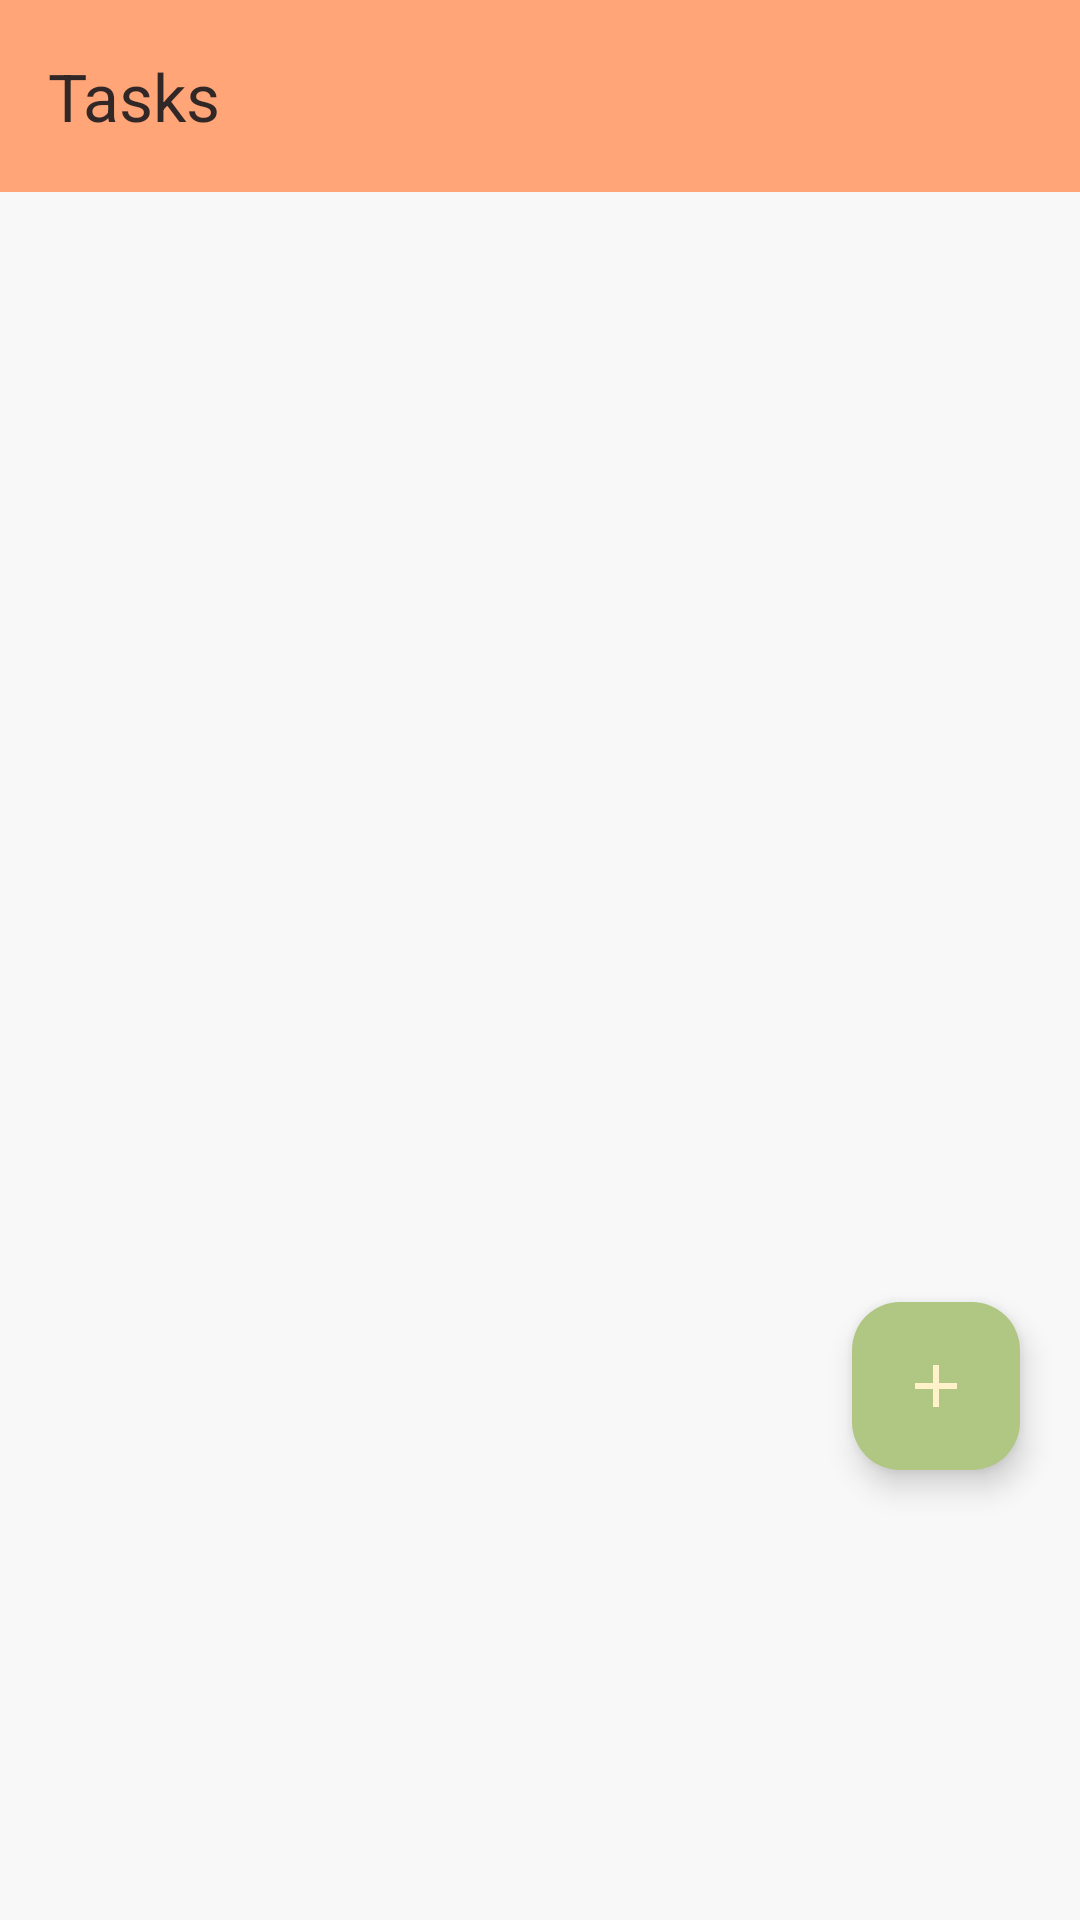

Icons on this 1080 x 1920 Android screen, each with the point to tap as [x,y]:
Add Task: [936,1386]
